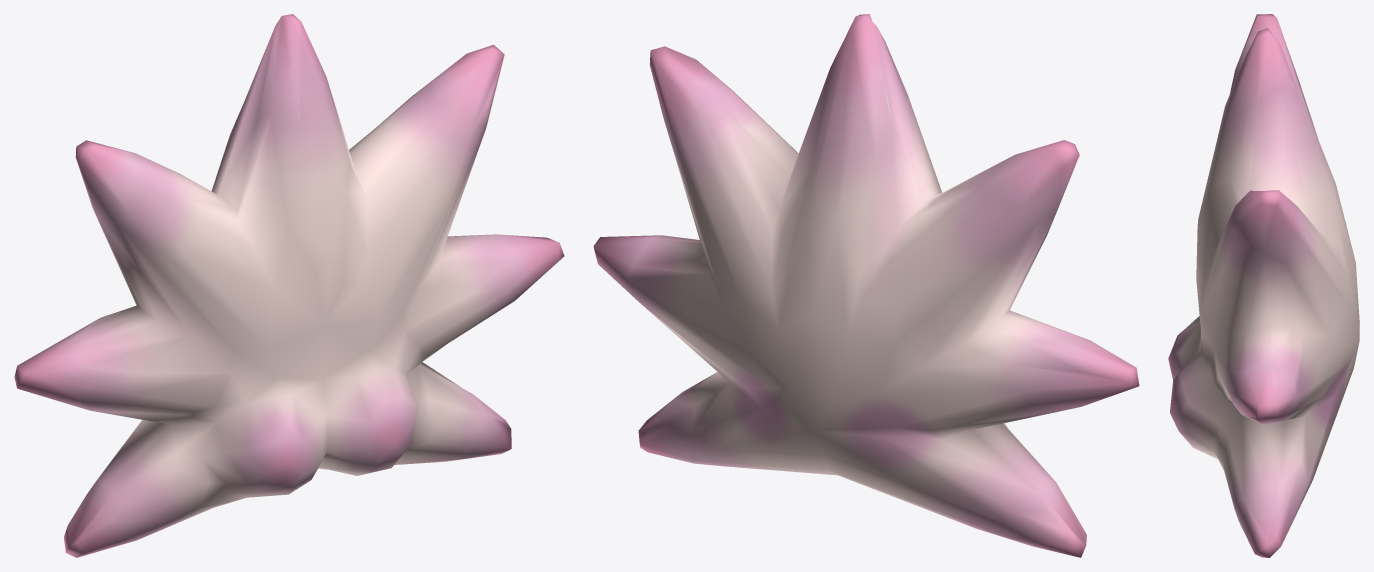
Rendered from star_head.dae.
3 renders of one model, left to right at view 1: azimuth 30°, elevation 25°; view 2: azimuth 150°, elevation 25°; view 3: azimuth 270°, elevation 25°, orthographic. The views are drawn at different scales.
Parts seen in each view (by area): view 1: star_head; view 2: star_head; view 3: star_head.
Boxes of the visible parts, bbox=[...] form: star_head: bbox=[14, 14, 564, 557]; star_head: bbox=[593, 14, 1139, 557]; star_head: bbox=[1168, 14, 1359, 557].
Bounding box in the file's own units: 3.02 × 1.03 × 2.59.
1 material, 1 textured.
